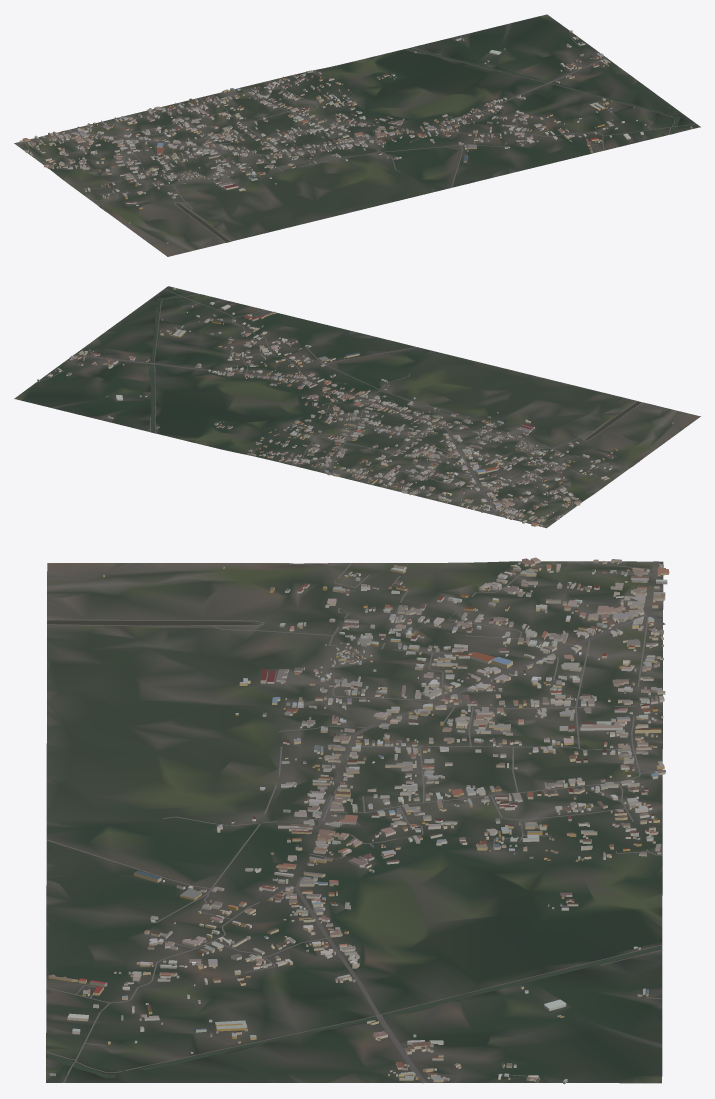
3 renders of one model, top to bottom at view 1: azimuth 30°, elevation 25°; view 2: azimuth 150°, elevation 25°; view 3: azimuth 270°, elevation 25°, orthographic. The views are drawn at different scales.
Parts seen in each view (by area): view 1: ground, buildings, roads, water; view 2: ground, buildings, roads, water; view 3: ground, buildings, roads, water.
Part boxes in pixels (bbox=[...]): ground: bbox=[14, 14, 700, 256]; buildings: bbox=[19, 30, 692, 243]; roads: bbox=[15, 35, 693, 242]; water: bbox=[106, 48, 680, 242]; ground: bbox=[14, 286, 700, 528]; buildings: bbox=[37, 288, 673, 526]; roads: bbox=[45, 289, 642, 527]; water: bbox=[150, 292, 641, 462]; ground: bbox=[46, 561, 663, 1083]; buildings: bbox=[48, 557, 669, 1084]; roads: bbox=[46, 561, 665, 1083]; water: bbox=[46, 564, 661, 1078].
Bounding box in the file's own units: 2813 × 20.6 × 1418.
